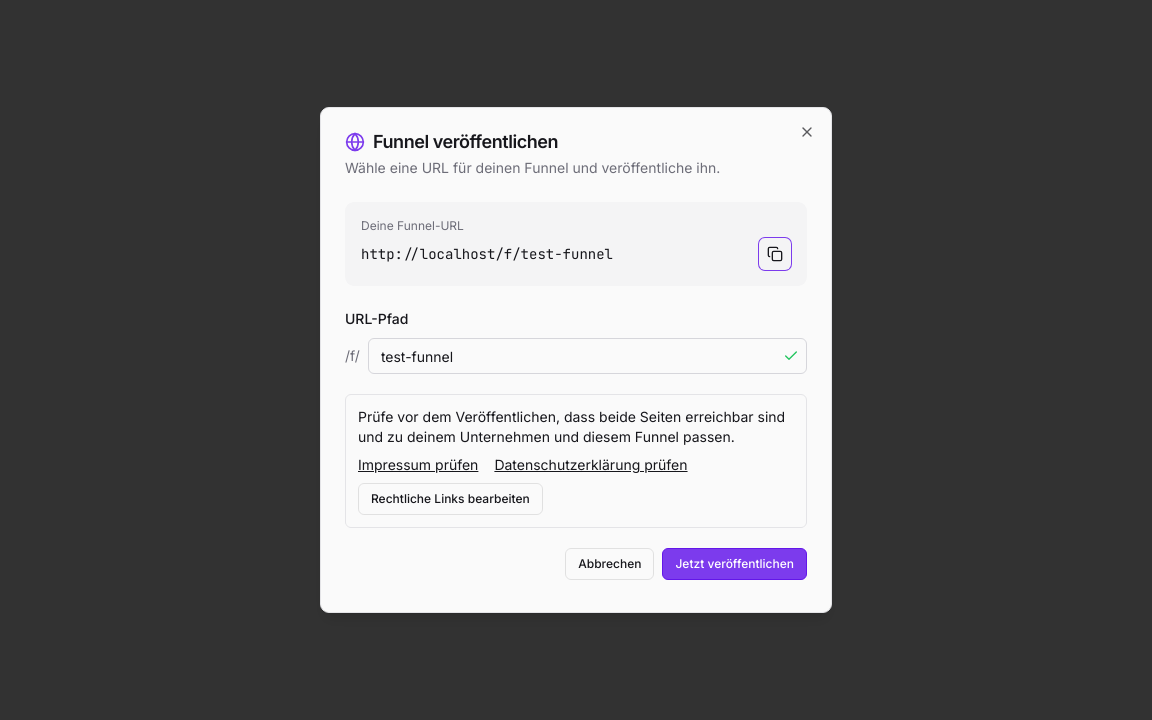
Scenario: publication review › ignores an outdated URL check arriving after the current result
Replace the text in the field with test id "input-publish-slug" with "alte-url" at (587, 356), box [368,338,807,374]
Wait 300 ms
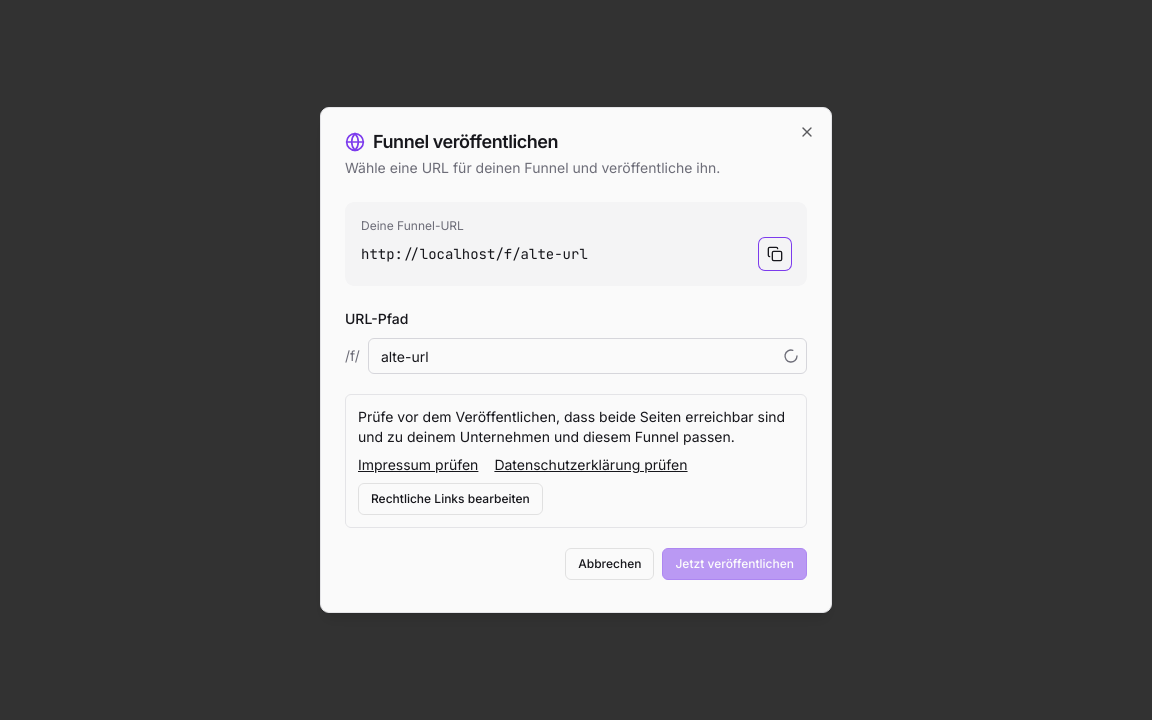
Replace the text in the field with test id "input-publish-slug" with "aktuelle-url" at (587, 356), box [368,338,807,374]
Wait 300 ms
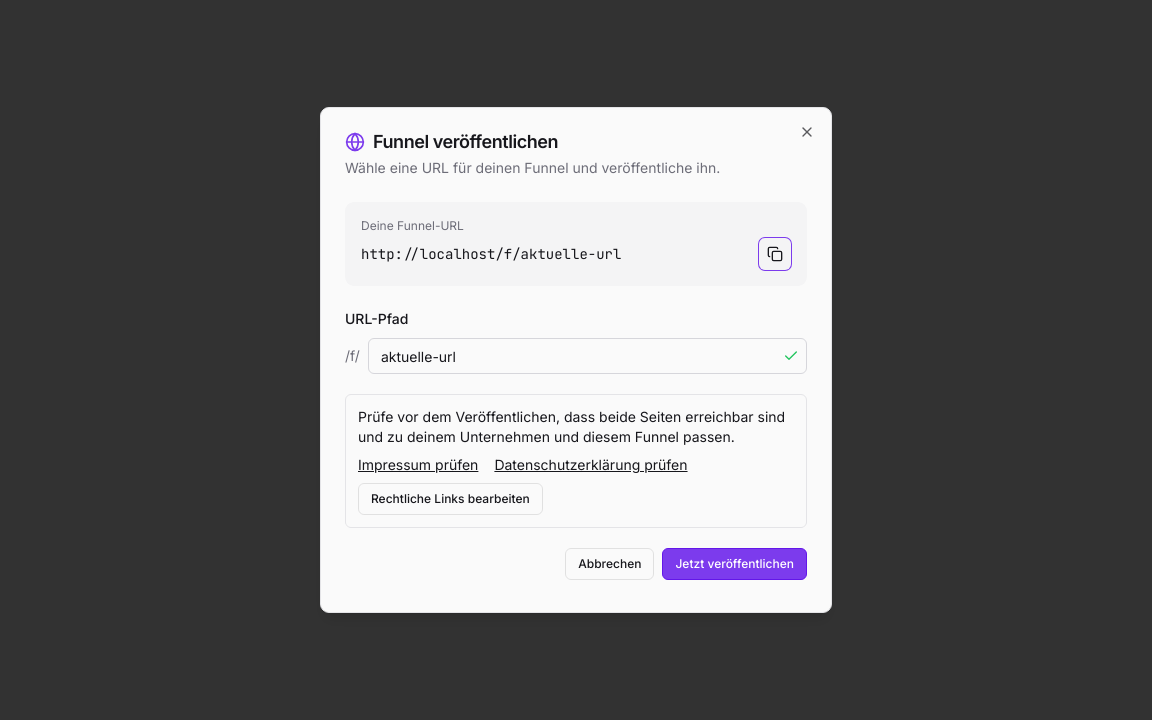
Check: the button with test id "button-confirm-publish" is enabled, box [662,548,807,580]
